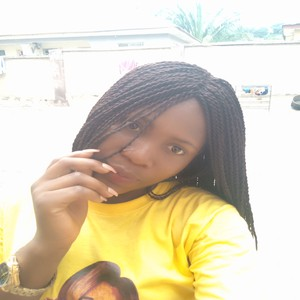Fulokoja_female_student: (81, 68, 239, 300)
